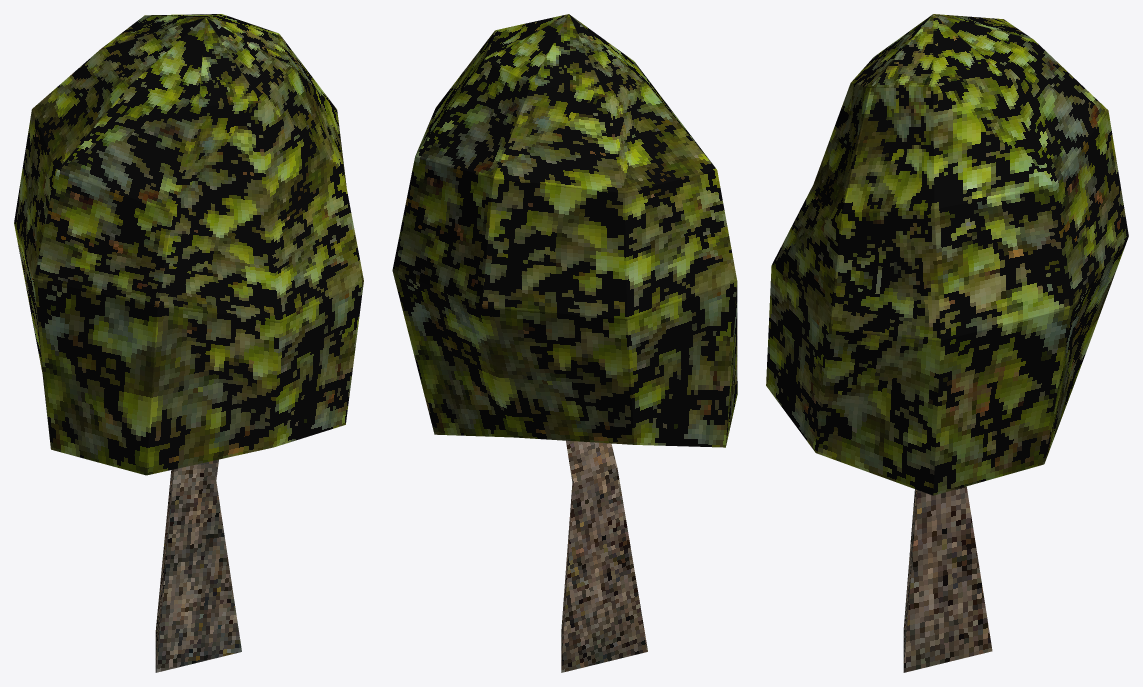
Rendered from tree.glb.
The picture shows the model from 3 angles, left to right: view 1: azimuth 30°, elevation 25°; view 2: azimuth 150°, elevation 25°; view 3: azimuth 270°, elevation 25°; orthographic projection. The views are drawn at different scales.
Visible parts, largest first — view 1: Leaves, Trunk; view 2: Leaves, Trunk; view 3: Leaves, Trunk.
Boxes of the visible parts, x1,y1,x2,y2 form: Leaves: (14, 14, 363, 475); Trunk: (155, 459, 241, 672); Leaves: (392, 14, 737, 447); Trunk: (561, 440, 647, 672); Leaves: (766, 14, 1128, 495); Trunk: (903, 486, 992, 672).
Size of the model in its own units: 3.19 by 6.03 by 3.06.
2 materials, 2 textured.
